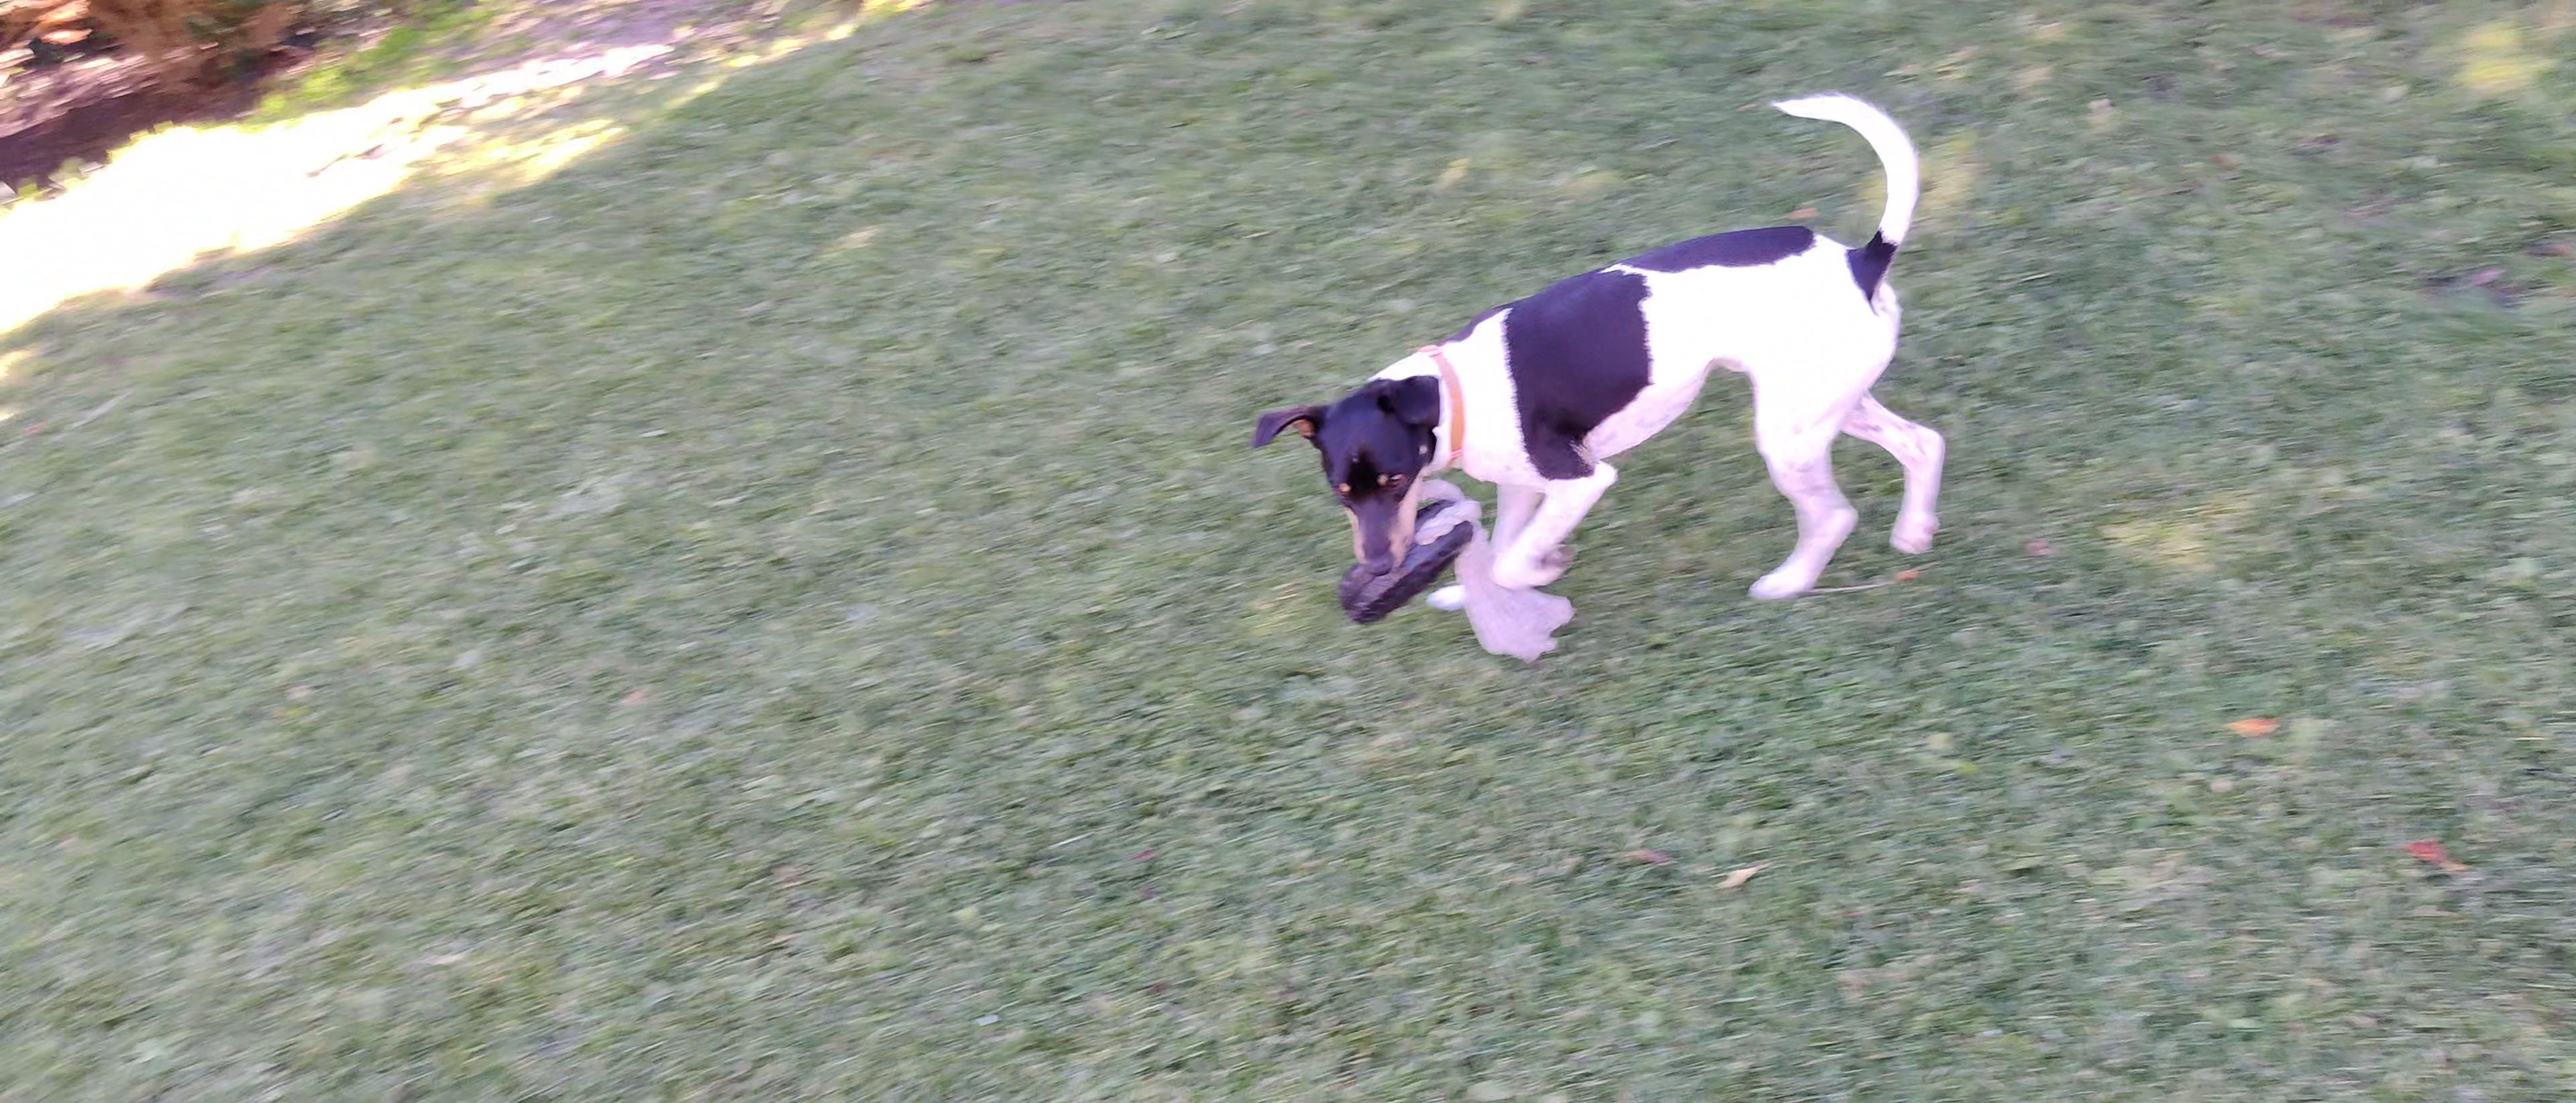Dog: (1237, 79, 1960, 625)
